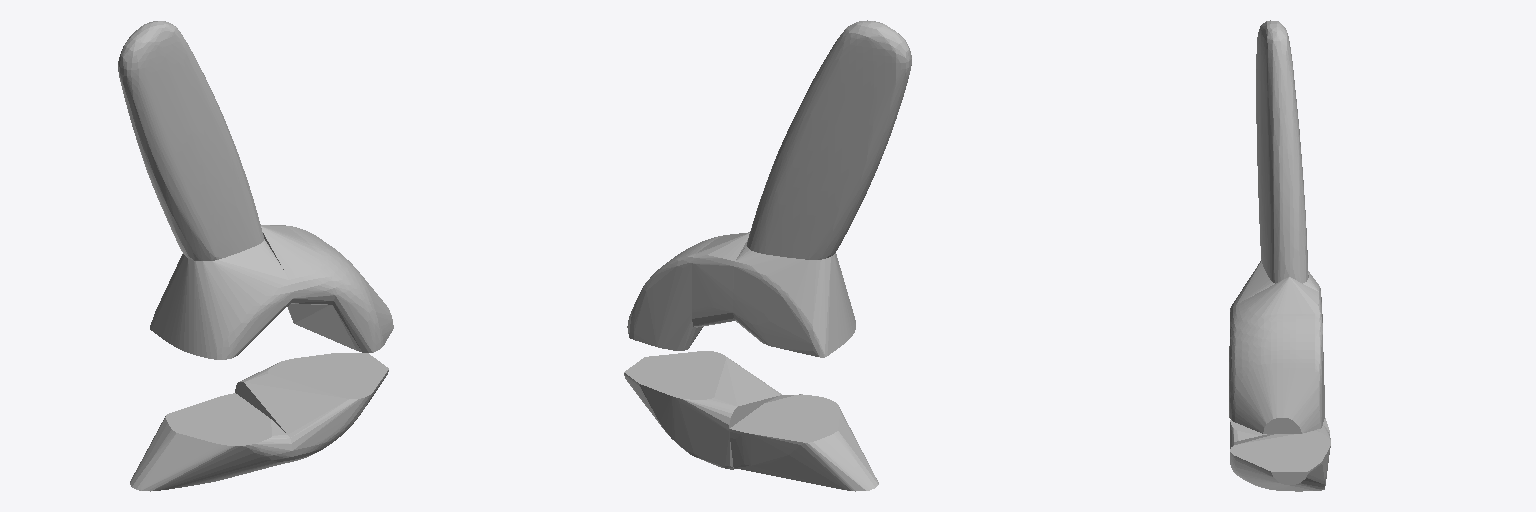
The robot description file, URDF, robot "root":
<robot name="root">
  <link name="link_coacd_convex_piece_0">
    <inertial>
      <origin xyz="0 0 0" rpy="0 0 0"/>
      <inertia ixx="2.92E-10" ixy="1.84E-11" ixz="9.99E-10" iyy="2.70E-09" iyz="1.21E-12" izz="2.43E-09"/>
    </inertial>
    <visual>
      <origin xyz="0 0 0" rpy="0 0 0"/>
      <geometry>
        <mesh filename="coacd_convex_piece_0.obj" scale="1.0000E+00 1.0000E+00 1.0000E+00"/>
      </geometry>
      <material name="">
        <color rgba="7.50E-01 7.50E-01 7.50E-01 1"/>
      </material>
    </visual>
    <collision>
      <origin xyz="0 0 0" rpy="0 0 0"/>
      <geometry>
        <mesh filename="coacd_convex_piece_0.obj" scale="1.0000E+00 1.0000E+00 1.0000E+00"/>
      </geometry>
    </collision>
  </link>
  <link name="link_coacd_convex_piece_1">
    <inertial>
      <origin xyz="0 0 0" rpy="0 0 0"/>
      <inertia ixx="3.36E-09" ixy="-2.53E-11" ixz="2.59E-09" iyy="4.92E-09" iyz="2.30E-11" izz="1.58E-09"/>
    </inertial>
    <visual>
      <origin xyz="0 0 0" rpy="0 0 0"/>
      <geometry>
        <mesh filename="coacd_convex_piece_1.obj" scale="1.0000E+00 1.0000E+00 1.0000E+00"/>
      </geometry>
      <material name="">
        <color rgba="7.50E-01 7.50E-01 7.50E-01 1"/>
      </material>
    </visual>
    <collision>
      <origin xyz="0 0 0" rpy="0 0 0"/>
      <geometry>
        <mesh filename="coacd_convex_piece_1.obj" scale="1.0000E+00 1.0000E+00 1.0000E+00"/>
      </geometry>
    </collision>
  </link>
  <joint name="link_coacd_convex_piece_1_joint" type="fixed">
    <origin xyz="0 0 0" rpy="0 0 0"/>
    <parent link="link_coacd_convex_piece_0"/>
    <child link="link_coacd_convex_piece_1"/>
  </joint>
  <link name="link_coacd_convex_piece_2">
    <inertial>
      <origin xyz="0 0 0" rpy="0 0 0"/>
      <inertia ixx="3.60E-09" ixy="-2.12E-11" ixz="-3.40E-09" iyy="6.78E-09" iyz="-2.90E-11" izz="3.20E-09"/>
    </inertial>
    <visual>
      <origin xyz="0 0 0" rpy="0 0 0"/>
      <geometry>
        <mesh filename="coacd_convex_piece_2.obj" scale="1.0000E+00 1.0000E+00 1.0000E+00"/>
      </geometry>
      <material name="">
        <color rgba="7.50E-01 7.50E-01 7.50E-01 1"/>
      </material>
    </visual>
    <collision>
      <origin xyz="0 0 0" rpy="0 0 0"/>
      <geometry>
        <mesh filename="coacd_convex_piece_2.obj" scale="1.0000E+00 1.0000E+00 1.0000E+00"/>
      </geometry>
    </collision>
  </link>
  <joint name="link_coacd_convex_piece_2_joint" type="fixed">
    <origin xyz="0 0 0" rpy="0 0 0"/>
    <parent link="link_coacd_convex_piece_1"/>
    <child link="link_coacd_convex_piece_2"/>
  </joint>
  <link name="link_coacd_convex_piece_3">
    <inertial>
      <origin xyz="0 0 0" rpy="0 0 0"/>
      <inertia ixx="4.47E-11" ixy="-4.08E-12" ixz="8.85E-11" iyy="-1.67E-10" iyz="-3.24E-12" izz="-1.43E-10"/>
    </inertial>
    <visual>
      <origin xyz="0 0 0" rpy="0 0 0"/>
      <geometry>
        <mesh filename="coacd_convex_piece_3.obj" scale="1.0000E+00 1.0000E+00 1.0000E+00"/>
      </geometry>
      <material name="">
        <color rgba="7.50E-01 7.50E-01 7.50E-01 1"/>
      </material>
    </visual>
    <collision>
      <origin xyz="0 0 0" rpy="0 0 0"/>
      <geometry>
        <mesh filename="coacd_convex_piece_3.obj" scale="1.0000E+00 1.0000E+00 1.0000E+00"/>
      </geometry>
    </collision>
  </link>
  <joint name="link_coacd_convex_piece_3_joint" type="fixed">
    <origin xyz="0 0 0" rpy="0 0 0"/>
    <parent link="link_coacd_convex_piece_2"/>
    <child link="link_coacd_convex_piece_3"/>
  </joint>
  <link name="link_coacd_convex_piece_4">
    <inertial>
      <origin xyz="0 0 0" rpy="0 0 0"/>
      <inertia ixx="8.25E-11" ixy="2.74E-12" ixz="1.15E-10" iyy="2.43E-11" iyz="-4.12E-12" izz="-2.15E-11"/>
    </inertial>
    <visual>
      <origin xyz="0 0 0" rpy="0 0 0"/>
      <geometry>
        <mesh filename="coacd_convex_piece_4.obj" scale="1.0000E+00 1.0000E+00 1.0000E+00"/>
      </geometry>
      <material name="">
        <color rgba="7.50E-01 7.50E-01 7.50E-01 1"/>
      </material>
    </visual>
    <collision>
      <origin xyz="0 0 0" rpy="0 0 0"/>
      <geometry>
        <mesh filename="coacd_convex_piece_4.obj" scale="1.0000E+00 1.0000E+00 1.0000E+00"/>
      </geometry>
    </collision>
  </link>
  <joint name="link_coacd_convex_piece_4_joint" type="fixed">
    <origin xyz="0 0 0" rpy="0 0 0"/>
    <parent link="link_coacd_convex_piece_3"/>
    <child link="link_coacd_convex_piece_4"/>
  </joint>
  <link name="link_coacd_convex_piece_5">
    <inertial>
      <origin xyz="0 0 0" rpy="0 0 0"/>
      <inertia ixx="7.78E-11" ixy="-1.74E-12" ixz="7.21E-11" iyy="-5.25E-11" iyz="6.91E-12" izz="-8.39E-11"/>
    </inertial>
    <visual>
      <origin xyz="0 0 0" rpy="0 0 0"/>
      <geometry>
        <mesh filename="coacd_convex_piece_5.obj" scale="1.0000E+00 1.0000E+00 1.0000E+00"/>
      </geometry>
      <material name="">
        <color rgba="7.50E-01 7.50E-01 7.50E-01 1"/>
      </material>
    </visual>
    <collision>
      <origin xyz="0 0 0" rpy="0 0 0"/>
      <geometry>
        <mesh filename="coacd_convex_piece_5.obj" scale="1.0000E+00 1.0000E+00 1.0000E+00"/>
      </geometry>
    </collision>
  </link>
  <joint name="link_coacd_convex_piece_5_joint" type="fixed">
    <origin xyz="0 0 0" rpy="0 0 0"/>
    <parent link="link_coacd_convex_piece_4"/>
    <child link="link_coacd_convex_piece_5"/>
  </joint>
  <link name="link_coacd_convex_piece_6">
    <inertial>
      <origin xyz="0 0 0" rpy="0 0 0"/>
      <inertia ixx="5.23E-10" ixy="1.31E-12" ixz="-4.37E-11" iyy="3.41E-10" iyz="2.20E-11" izz="-9.96E-11"/>
    </inertial>
    <visual>
      <origin xyz="0 0 0" rpy="0 0 0"/>
      <geometry>
        <mesh filename="coacd_convex_piece_6.obj" scale="1.0000E+00 1.0000E+00 1.0000E+00"/>
      </geometry>
      <material name="">
        <color rgba="7.50E-01 7.50E-01 7.50E-01 1"/>
      </material>
    </visual>
    <collision>
      <origin xyz="0 0 0" rpy="0 0 0"/>
      <geometry>
        <mesh filename="coacd_convex_piece_6.obj" scale="1.0000E+00 1.0000E+00 1.0000E+00"/>
      </geometry>
    </collision>
  </link>
  <joint name="link_coacd_convex_piece_6_joint" type="fixed">
    <origin xyz="0 0 0" rpy="0 0 0"/>
    <parent link="link_coacd_convex_piece_5"/>
    <child link="link_coacd_convex_piece_6"/>
  </joint>
  <link name="link_coacd_convex_piece_7">
    <inertial>
      <origin xyz="0 0 0" rpy="0 0 0"/>
      <inertia ixx="1.11E-11" ixy="8.70E-12" ixz="-1.77E-11" iyy="3.91E-10" iyz="6.83E-13" izz="4.13E-10"/>
    </inertial>
    <visual>
      <origin xyz="0 0 0" rpy="0 0 0"/>
      <geometry>
        <mesh filename="coacd_convex_piece_7.obj" scale="1.0000E+00 1.0000E+00 1.0000E+00"/>
      </geometry>
      <material name="">
        <color rgba="7.50E-01 7.50E-01 7.50E-01 1"/>
      </material>
    </visual>
    <collision>
      <origin xyz="0 0 0" rpy="0 0 0"/>
      <geometry>
        <mesh filename="coacd_convex_piece_7.obj" scale="1.0000E+00 1.0000E+00 1.0000E+00"/>
      </geometry>
    </collision>
  </link>
  <joint name="link_coacd_convex_piece_7_joint" type="fixed">
    <origin xyz="0 0 0" rpy="0 0 0"/>
    <parent link="link_coacd_convex_piece_6"/>
    <child link="link_coacd_convex_piece_7"/>
  </joint>
  <link name="link_coacd_convex_piece_8">
    <inertial>
      <origin xyz="0 0 0" rpy="0 0 0"/>
      <inertia ixx="1.64E-10" ixy="1.44E-11" ixz="-2.36E-10" iyy="5.94E-10" iyz="9.11E-12" izz="4.84E-10"/>
    </inertial>
    <visual>
      <origin xyz="0 0 0" rpy="0 0 0"/>
      <geometry>
        <mesh filename="coacd_convex_piece_8.obj" scale="1.0000E+00 1.0000E+00 1.0000E+00"/>
      </geometry>
      <material name="">
        <color rgba="7.50E-01 7.50E-01 7.50E-01 1"/>
      </material>
    </visual>
    <collision>
      <origin xyz="0 0 0" rpy="0 0 0"/>
      <geometry>
        <mesh filename="coacd_convex_piece_8.obj" scale="1.0000E+00 1.0000E+00 1.0000E+00"/>
      </geometry>
    </collision>
  </link>
  <joint name="link_coacd_convex_piece_8_joint" type="fixed">
    <origin xyz="0 0 0" rpy="0 0 0"/>
    <parent link="link_coacd_convex_piece_7"/>
    <child link="link_coacd_convex_piece_8"/>
  </joint>
  <link name="link_coacd_convex_piece_9">
    <inertial>
      <origin xyz="0 0 0" rpy="0 0 0"/>
      <inertia ixx="1.54E-10" ixy="3.25E-12" ixz="4.13E-10" iyy="7.38E-10" iyz="-4.29E-12" izz="6.61E-10"/>
    </inertial>
    <visual>
      <origin xyz="0 0 0" rpy="0 0 0"/>
      <geometry>
        <mesh filename="coacd_convex_piece_9.obj" scale="1.0000E+00 1.0000E+00 1.0000E+00"/>
      </geometry>
      <material name="">
        <color rgba="7.50E-01 7.50E-01 7.50E-01 1"/>
      </material>
    </visual>
    <collision>
      <origin xyz="0 0 0" rpy="0 0 0"/>
      <geometry>
        <mesh filename="coacd_convex_piece_9.obj" scale="1.0000E+00 1.0000E+00 1.0000E+00"/>
      </geometry>
    </collision>
  </link>
  <joint name="link_coacd_convex_piece_9_joint" type="fixed">
    <origin xyz="0 0 0" rpy="0 0 0"/>
    <parent link="link_coacd_convex_piece_8"/>
    <child link="link_coacd_convex_piece_9"/>
  </joint>
  <link name="link_coacd_convex_piece_10">
    <inertial>
      <origin xyz="0 0 0" rpy="0 0 0"/>
      <inertia ixx="5.24E-10" ixy="1.56E-11" ixz="-5.00E-10" iyy="9.86E-10" iyz="1.47E-11" izz="5.11E-10"/>
    </inertial>
    <visual>
      <origin xyz="0 0 0" rpy="0 0 0"/>
      <geometry>
        <mesh filename="coacd_convex_piece_10.obj" scale="1.0000E+00 1.0000E+00 1.0000E+00"/>
      </geometry>
      <material name="">
        <color rgba="7.50E-01 7.50E-01 7.50E-01 1"/>
      </material>
    </visual>
    <collision>
      <origin xyz="0 0 0" rpy="0 0 0"/>
      <geometry>
        <mesh filename="coacd_convex_piece_10.obj" scale="1.0000E+00 1.0000E+00 1.0000E+00"/>
      </geometry>
    </collision>
  </link>
  <joint name="link_coacd_convex_piece_10_joint" type="fixed">
    <origin xyz="0 0 0" rpy="0 0 0"/>
    <parent link="link_coacd_convex_piece_9"/>
    <child link="link_coacd_convex_piece_10"/>
  </joint>
</robot>

--- What the picture shows (computed from the rendered views, not written in the file) ---
The picture shows the robot from 3 angles, left to right: view 1: azimuth 30°, elevation 25°; view 2: azimuth 150°, elevation 25°; view 3: azimuth 270°, elevation 25°; orthographic projection.
Model root with 11 links and 10 joints (10 fixed), rooted at link_coacd_convex_piece_0, posed all joints at 0.
Visible links, largest first — view 1: link_coacd_convex_piece_1, link_coacd_convex_piece_9, link_coacd_convex_piece_10, link_coacd_convex_piece_6, link_coacd_convex_piece_3, link_coacd_convex_piece_4; view 2: link_coacd_convex_piece_1, link_coacd_convex_piece_9, link_coacd_convex_piece_6, link_coacd_convex_piece_10, link_coacd_convex_piece_3, link_coacd_convex_piece_4; view 3: link_coacd_convex_piece_1, link_coacd_convex_piece_3, link_coacd_convex_piece_6, link_coacd_convex_piece_4, link_coacd_convex_piece_9.
Link boxes in pixels (x1,y1,x2,y2): link_coacd_convex_piece_1: (118, 21, 263, 260); link_coacd_convex_piece_9: (150, 239, 292, 359); link_coacd_convex_piece_10: (130, 393, 291, 491); link_coacd_convex_piece_6: (235, 353, 388, 463); link_coacd_convex_piece_3: (285, 225, 393, 352); link_coacd_convex_piece_4: (261, 225, 334, 304); link_coacd_convex_piece_1: (747, 20, 911, 259); link_coacd_convex_piece_9: (733, 245, 855, 357); link_coacd_convex_piece_6: (624, 351, 781, 469); link_coacd_convex_piece_10: (729, 394, 878, 491); link_coacd_convex_piece_3: (627, 235, 723, 350); link_coacd_convex_piece_4: (692, 232, 749, 327); link_coacd_convex_piece_1: (1256, 20, 1308, 283); link_coacd_convex_piece_3: (1229, 314, 1324, 433); link_coacd_convex_piece_6: (1230, 426, 1330, 491); link_coacd_convex_piece_4: (1230, 277, 1322, 337); link_coacd_convex_piece_9: (1230, 260, 1322, 317).
Size in the robot's own frame: 0.0502 by 0.0189 by 0.083 metres.
Meshes: 11 distinct files referenced, 6 mesh visuals loaded (6 OBJ); not drawn: 5 (reference not matched to a file when rendering).